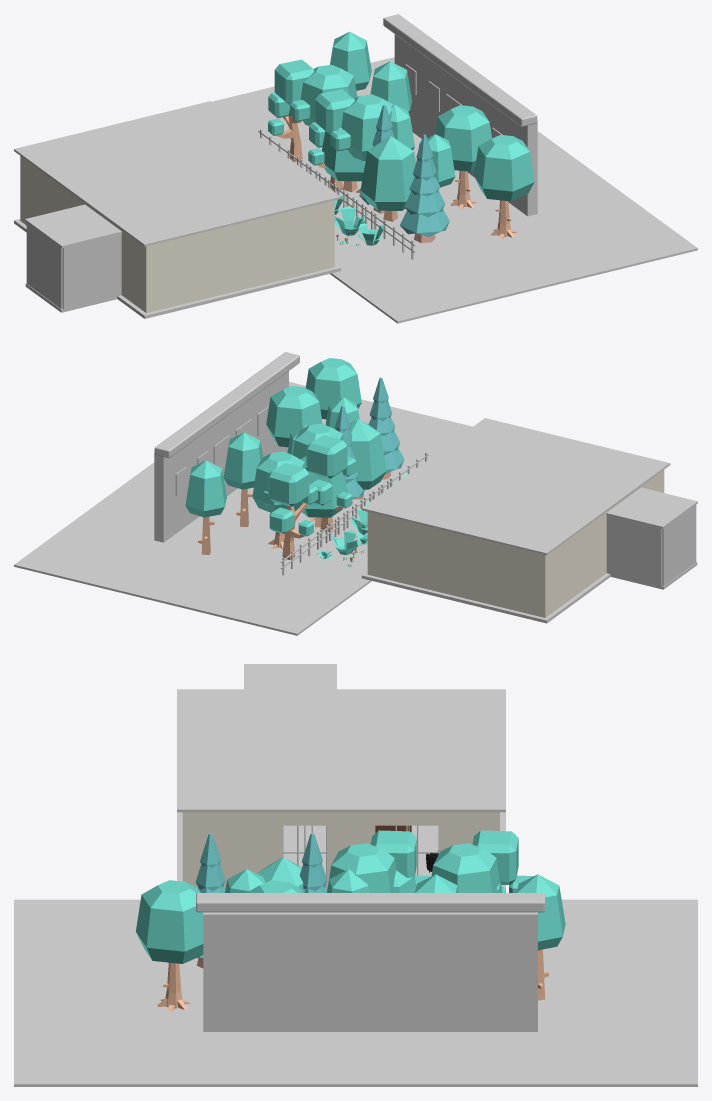
The model's file is living.glb.
The picture shows the model from 3 angles, top to bottom: view 1: azimuth 30°, elevation 25°; view 2: azimuth 150°, elevation 25°; view 3: azimuth 270°, elevation 25°; orthographic projection. The views are drawn at different scales.
Visible parts, largest first — view 1: grass, ceiling, k_leafsGreen, wall, wall_next, house_far, roof_far, k_leafsDark, k_woodBark, floor_wood, fence, k_grass (+1 smaller); view 2: grass, ceiling, k_leafsGreen, wall, house_far, wall_next, roof_far, k_leafsDark, k_woodBark, floor_wood, fence, window_far (+1 smaller); view 3: grass, ceiling, house_far, k_leafsGreen, wall, roof_far, floor_wood, k_leafsDark, k_woodBark.
Boxes of the visible parts, box(x1,y1,x2,y2) form: grass: box(211, 57, 697, 323); ceiling: box(14, 101, 340, 248); k_leafsGreen: box(268, 31, 534, 210); wall: box(20, 156, 334, 312); wall_next: box(26, 223, 121, 309); house_far: box(394, 34, 537, 216); roof_far: box(383, 14, 537, 126); k_leafsDark: box(359, 105, 449, 236); k_woodBark: box(276, 91, 517, 239); floor_wood: box(14, 219, 340, 318); fence: box(258, 129, 415, 259); k_grass: box(334, 196, 384, 247); grass: box(14, 382, 472, 635); ceiling: box(361, 418, 697, 555); k_leafsGreen: box(185, 358, 386, 536); wall: box(367, 470, 664, 617); house_far: box(154, 371, 288, 542); wall_next: box(606, 505, 696, 586); roof_far: box(154, 352, 299, 458); k_leafsDark: box(335, 377, 404, 499); k_woodBark: box(198, 476, 363, 559); floor_wood: box(361, 571, 610, 623); fence: box(280, 452, 428, 575); window_far: box(175, 407, 268, 495); grass: box(14, 899, 697, 1086); ceiling: box(177, 664, 505, 812); house_far: box(203, 912, 537, 1031); k_leafsGreen: box(136, 830, 565, 963); wall: box(182, 812, 499, 889); roof_far: box(196, 893, 545, 912); floor_wood: box(177, 812, 505, 888); k_leafsDark: box(195, 833, 327, 958); k_woodBark: box(157, 949, 548, 1011).
Bounding box in the file's own units: 54.4 × 10.1 × 47.
